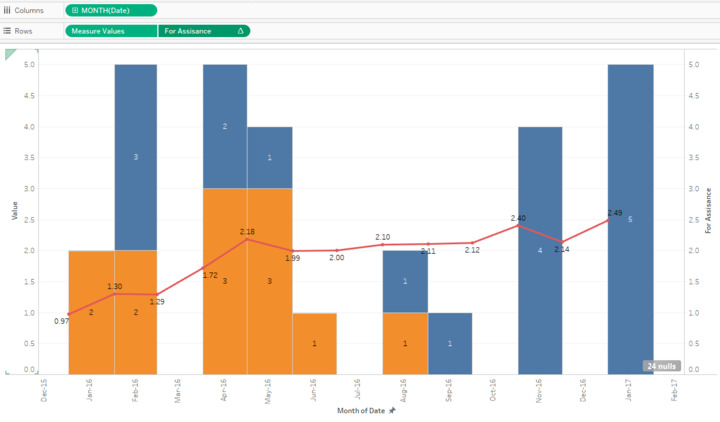OK_NoIssue: (19, 51, 720, 400)
